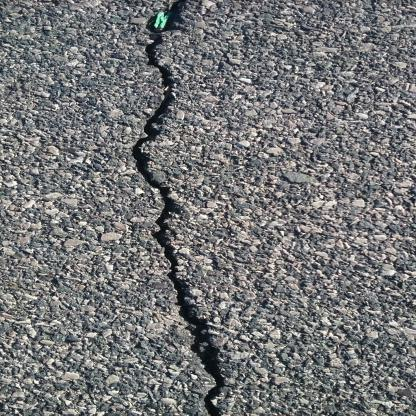Cracks: (124, 0, 242, 415)
